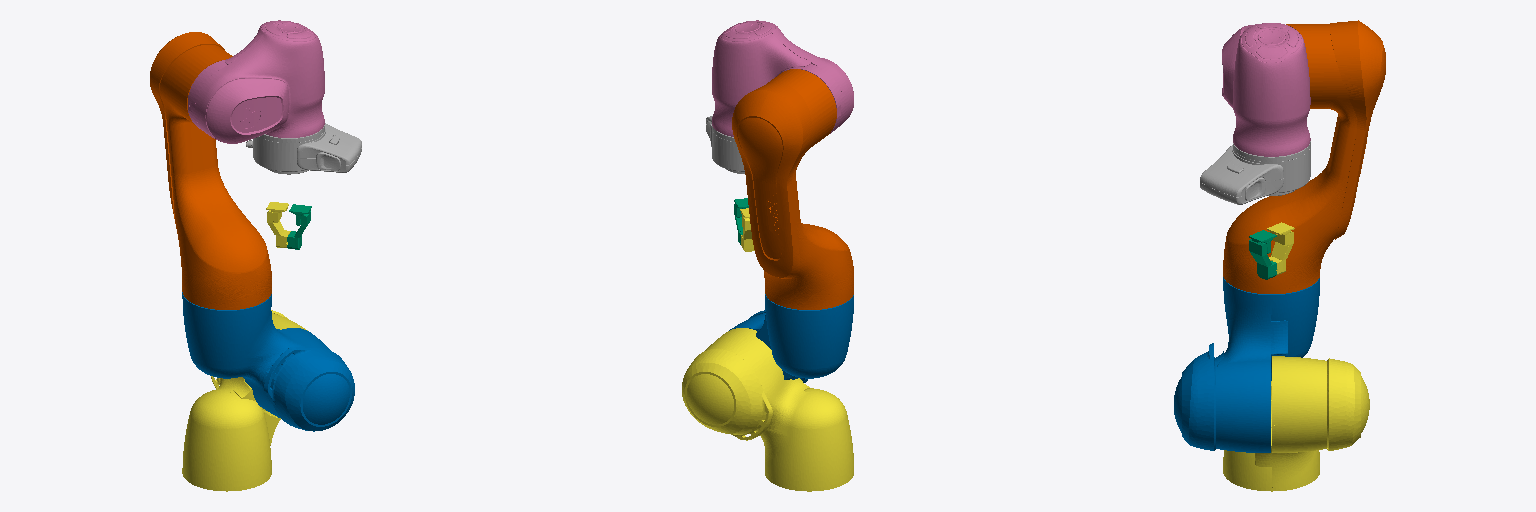
URDF robot description (panda):
<?xml version="1.0" ?>
<!-- =================================================================================== -->
<!-- |    This document was autogenerated by xacro from /opt/ros/kinetic/share/moveit_resources/panda_description/urdf/panda.urdf | -->
<!-- |    EDITING THIS FILE BY HAND IS NOT RECOMMENDED                                 | -->
<!-- =================================================================================== -->
<robot name="panda" xmlns:xacro="http://www.ros.org/wiki/xacro">
    <link name="panda_link0">
        <visual>
            <geometry>
                <mesh filename="package://panda_description/meshes/visual/link0.dae" />
            </geometry>
        </visual>
        <collision>
            <geometry>
                <mesh filename="package://panda_description/meshes/collision/link0.stl" />
            </geometry>
        </collision>
    </link>
    <link name="panda_link1">
        <inertial>
          <mass value="0"/>
          <origin rpy="0 0 0" xyz="0 0 0"/>
          <inertia ixx="0" ixy="0" ixz="0" iyy="0" iyz="0" izz="0"/>
        </inertial>
        <visual>
            <geometry>
                <mesh filename="package://panda_description/meshes/visual/link1.dae" />
            </geometry>
        </visual>
        <collision>
            <geometry>
                <mesh filename="package://panda_description/meshes/collision/link1.stl" />
            </geometry>
        </collision>
    </link>
    <joint name="panda_joint1" type="revolute">
        <safety_controller k_position="100.0" k_velocity="40.0" soft_lower_limit="-2.8973" soft_upper_limit="2.8973" />
        <origin rpy="0 0 0" xyz="0 0 0.333" />
        <parent link="panda_link0" />
        <child link="panda_link1" />
        <axis xyz="0 0 1" />
        <limit effort="87" lower="-2.9671" upper="2.9671" velocity="2.3925" />
    </joint>
    <link name="panda_link2">
        <inertial>
          <mass value="0"/>
          <origin rpy="0 0 0" xyz="0 0 0"/>
          <inertia ixx="0" ixy="0" ixz="0" iyy="0" iyz="0" izz="0"/>
        </inertial>
        <visual>
            <geometry>
                <mesh filename="package://panda_description/meshes/visual/link2.dae" />
            </geometry>
        </visual>
        <collision>
            <geometry>
                <mesh filename="package://panda_description/meshes/collision/link2.stl" />
            </geometry>
        </collision>
    </link>
    <joint name="panda_joint2" type="revolute">
        <safety_controller k_position="100.0" k_velocity="40.0" soft_lower_limit="-1.7628" soft_upper_limit="1.7628" />
        <origin rpy="-1.57079632679 0 0" xyz="0 0 0" />
        <parent link="panda_link1" />
        <child link="panda_link2" />
        <axis xyz="0 0 1" />
        <limit effort="87" lower="-1.8326" upper="1.8326" velocity="2.3925" />
    </joint>
    <link name="panda_link3">
        <inertial>
          <mass value="0"/>
          <origin rpy="0 0 0" xyz="0 0 0"/>
          <inertia ixx="0" ixy="0" ixz="0" iyy="0" iyz="0" izz="0"/>
        </inertial>
        <visual>
            <geometry>
                <mesh filename="package://panda_description/meshes/visual/link3.dae" />
            </geometry>
        </visual>
        <collision>
            <geometry>
                <mesh filename="package://panda_description/meshes/collision/link3.stl" />
            </geometry>
        </collision>
    </link>
    <joint name="panda_joint3" type="revolute">
        <safety_controller k_position="100.0" k_velocity="40.0" soft_lower_limit="-2.8973" soft_upper_limit="2.8973" />
        <origin rpy="1.57079632679 0 0" xyz="0 -0.316 0" />
        <parent link="panda_link2" />
        <child link="panda_link3" />
        <axis xyz="0 0 1" />
        <limit effort="87" lower="-2.9671" upper="2.9671" velocity="2.3925" />
    </joint>
    <link name="panda_link4">
        <inertial>
          <mass value="0"/>
          <origin rpy="0 0 0" xyz="0 0 0"/>
          <inertia ixx="0" ixy="0" ixz="0" iyy="0" iyz="0" izz="0"/>
        </inertial>
        <visual>
            <geometry>
                <mesh filename="package://panda_description/meshes/visual/link4.dae" />
            </geometry>
        </visual>
        <collision>
            <geometry>
                <mesh filename="package://panda_description/meshes/collision/link4.stl" />
            </geometry>
        </collision>
    </link>
    <joint name="panda_joint4" type="revolute">
        <safety_controller k_position="100.0" k_velocity="40.0" soft_lower_limit="-3.0718" soft_upper_limit="0.0175" />
        <origin rpy="1.57079632679 0 0" xyz="0.0825 0 0" />
        <parent link="panda_link3" />
        <child link="panda_link4" />
        <axis xyz="0 0 1" />
        <limit effort="87" lower="-3.1416" upper="0.0873" velocity="2.3925" />
    </joint>
    <link name="panda_link5">
        <inertial>
          <mass value="0"/>
          <origin rpy="0 0 0" xyz="0 0 0"/>
          <inertia ixx="0" ixy="0" ixz="0" iyy="0" iyz="0" izz="0"/>
        </inertial>
        <visual>
            <geometry>
                <mesh filename="package://panda_description/meshes/visual/link5.dae" />
            </geometry>
        </visual>
        <collision>
            <geometry>
                <mesh filename="package://panda_description/meshes/collision/link5.stl" />
            </geometry>
        </collision>
    </link>
    <joint name="panda_joint5" type="revolute">
        <safety_controller k_position="100.0" k_velocity="40.0" soft_lower_limit="-2.8973" soft_upper_limit="2.8973" />
        <origin rpy="-1.57079632679 0 0" xyz="-0.0825 0.384 0" />
        <parent link="panda_link4" />
        <child link="panda_link5" />
        <axis xyz="0 0 1" />
        <limit effort="12" lower="-2.9671" upper="2.9671" velocity="2.8710" />
    </joint>
    <link name="panda_link6">
        <inertial>
          <mass value="0"/>
          <origin rpy="0 0 0" xyz="0 0 0"/>
          <inertia ixx="0" ixy="0" ixz="0" iyy="0" iyz="0" izz="0"/>
        </inertial>
        <visual>
            <geometry>
                <mesh filename="package://panda_description/meshes/visual/link6.dae" />
            </geometry>
        </visual>
        <collision>
            <geometry>
                <mesh filename="package://panda_description/meshes/collision/link6.stl" />
            </geometry>
        </collision>
    </link>
    <joint name="panda_joint6" type="revolute">
        <safety_controller k_position="100.0" k_velocity="40.0" soft_lower_limit="-0.0175" soft_upper_limit="3.7525" />
        <origin rpy="1.57079632679 0 0" xyz="0 0 0" />
        <parent link="panda_link5" />
        <child link="panda_link6" />
        <axis xyz="0 0 1" />
        <limit effort="12" lower="-0.0873" upper="3.8223" velocity="2.8710" />
    </joint>
    <link name="panda_link7">
        <inertial>
          <mass value="0"/>
          <origin rpy="0 0 0" xyz="0 0 0"/>
          <inertia ixx="0" ixy="0" ixz="0" iyy="0" iyz="0" izz="0"/>
        </inertial>
        <visual>
            <geometry>
                <mesh filename="package://panda_description/meshes/visual/link7.dae" />
            </geometry>
        </visual>
        <collision>
            <geometry>
                <mesh filename="package://panda_description/meshes/collision/link7.stl" />
            </geometry>
        </collision>
    </link>
    <joint name="panda_joint7" type="revolute">
        <safety_controller k_position="100.0" k_velocity="40.0" soft_lower_limit="-2.8973" soft_upper_limit="2.8973" />
        <origin rpy="1.57079632679 0 0" xyz="0.088 0 0" />
        <parent link="panda_link6" />
        <child link="panda_link7" />
        <axis xyz="0 0 1" />
        <limit effort="12" lower="-2.9671" upper="2.9671" velocity="2.8710" />
    </joint>
    <link name="panda_link8">
        <inertial>
          <mass value="0"/>
          <origin rpy="0 0 0" xyz="0 0 0"/>
          <inertia ixx="0" ixy="0" ixz="0" iyy="0" iyz="0" izz="0"/>
        </inertial>
    </link>
    <joint name="panda_joint8" type="fixed">
        <origin rpy="0 0 0" xyz="0 0 0.107" />
        <parent link="panda_link7" />
        <child link="panda_link8" />
        <axis xyz="0 0 0" />
    </joint>
    <joint name="panda_hand_joint" type="fixed">
        <parent link="panda_link8" />
        <child link="panda_hand" />
        <origin rpy="0 0 -0.785398163397" xyz="0 0 0" />
    </joint>
    <link name="panda_hand">
        <inertial>
          <mass value="0"/>
          <origin rpy="0 0 0" xyz="0 0 0"/>
          <inertia ixx="0" ixy="0" ixz="0" iyy="0" iyz="0" izz="0"/>
        </inertial>
        <visual>
            <geometry>
                <mesh filename="package://panda_description/meshes/visual/hand.dae" />
            </geometry>
        </visual>
        <collision>
            <geometry>
                <mesh filename="package://panda_description/meshes/collision/hand.stl" />
            </geometry>
        </collision>
    </link>
    <link name="panda_leftfinger">
        <inertial>
          <mass value="0"/>
          <origin rpy="0 0 0" xyz="0 0 0"/>
          <inertia ixx="0" ixy="0" ixz="0" iyy="0" iyz="0" izz="0"/>
        </inertial>
        <visual>
            <geometry>
                <mesh filename="package://panda_description/meshes/visual/finger.dae" />
            </geometry>
        </visual>
        <collision>
            <geometry>
                <mesh filename="package://panda_description/meshes/collision/finger.stl" />
            </geometry>
        </collision>
    </link>
    <link name="panda_rightfinger">
        <inertial>
          <mass value="0"/>
          <origin rpy="0 0 0" xyz="0 0 0"/>
          <inertia ixx="0" ixy="0" ixz="0" iyy="0" iyz="0" izz="0"/>
        </inertial>
        <visual>
            <origin rpy="0 0 3.14159265359" xyz="0 0 0" />
            <geometry>
                <mesh filename="package://panda_description/meshes/visual/finger.dae" />
            </geometry>
        </visual>
        <collision>
            <origin rpy="0 0 3.14159265359" xyz="0 0 0" />
            <geometry>
                <mesh filename="package://panda_description/meshes/collision/finger.stl" />
            </geometry>
        </collision>
    </link>
    <joint name="panda_finger_joint1" type="prismatic">
        <parent link="panda_hand" />
        <child link="panda_leftfinger" />
        <origin rpy="0 0 0" xyz="0 0 0.0584" />
        <axis xyz="0 1 0" />
        <limit effort="20" lower="0.0" upper="0.04" velocity="0.2" />
    </joint>
    <joint name="panda_finger_joint2" type="prismatic">
        <parent link="panda_hand" />
        <child link="panda_rightfinger" />
        <origin rpy="0 0 0" xyz="0 0 0.0584" />
        <axis xyz="0 -1 0" />
        <limit effort="20" lower="0.0" upper="0.04" velocity="0.2" />
        <mimic joint="panda_finger_joint1" />
    </joint>
</robot>

--- Render facts (derived) ---
Views: 3 orthographic renders of the robot side by side, from view 1: azimuth 30°, elevation 25°; view 2: azimuth 150°, elevation 25°; view 3: azimuth 270°, elevation 25°.
Model panda with 12 links and 11 joints (7 revolute, 2 prismatic, 2 fixed), rooted at panda_link0, posed every joint at zero.
Links seen in each view (by area): view 1: panda_link5, panda_link4, panda_link6, panda_link3, panda_link7, panda_rightfinger, panda_leftfinger; view 2: panda_link5, panda_link3, panda_link6, panda_link4, panda_link7; view 3: panda_link5, panda_link4, panda_link3, panda_link6, panda_link7, panda_leftfinger, panda_rightfinger.
Boxes of the visible links, x1,y1,x2,y2 form: panda_link5: (150, 32, 271, 309); panda_link4: (182, 292, 354, 431); panda_link6: (188, 20, 324, 143); panda_link3: (182, 310, 307, 491); panda_link7: (246, 123, 361, 174); panda_rightfinger: (266, 202, 290, 247); panda_leftfinger: (287, 204, 311, 249); panda_link5: (732, 69, 853, 309); panda_link3: (682, 328, 853, 491); panda_link6: (712, 20, 853, 136); panda_link4: (729, 294, 853, 382); panda_link7: (706, 116, 744, 173); panda_link5: (1223, 20, 1385, 293); panda_link4: (1174, 277, 1319, 452); panda_link3: (1223, 356, 1369, 491); panda_link6: (1222, 23, 1310, 156); panda_link7: (1200, 141, 1310, 204); panda_leftfinger: (1249, 230, 1276, 279); panda_rightfinger: (1267, 222, 1294, 275).
Size in the robot's own frame: 0.2243 by 0.241 by 0.5867 metres.
Meshes: 10 distinct files referenced, 7 mesh visuals loaded (6 Collada DAE); not drawn: 4 (reference not matched to a file when rendering).